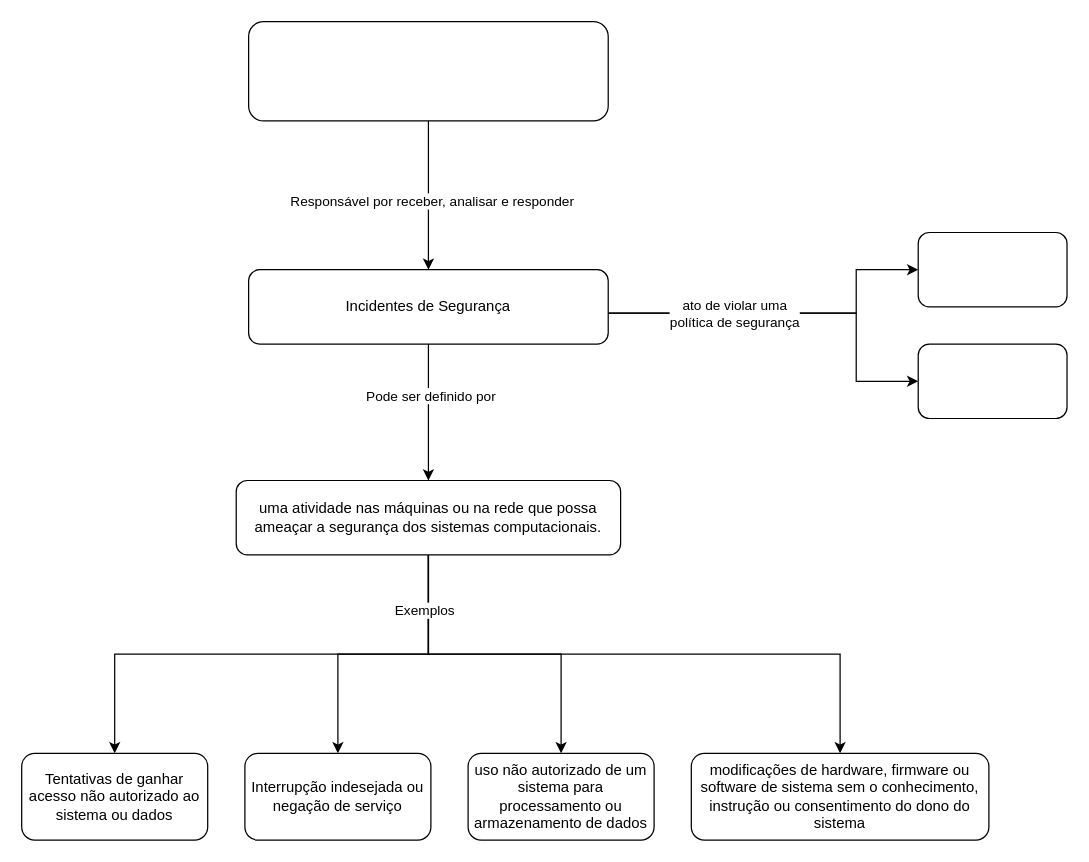
Image size: 1089x862. Some labels were removed from this diagram. Here are the shapes that lost their labels. From the top down, the box of each, then its label:
(247, 20, 608, 121): CSIRT Grupo de Resposta a Incidentes de Segurança
(917, 231, 1067, 307): explícita
(917, 343, 1067, 418): implícita
